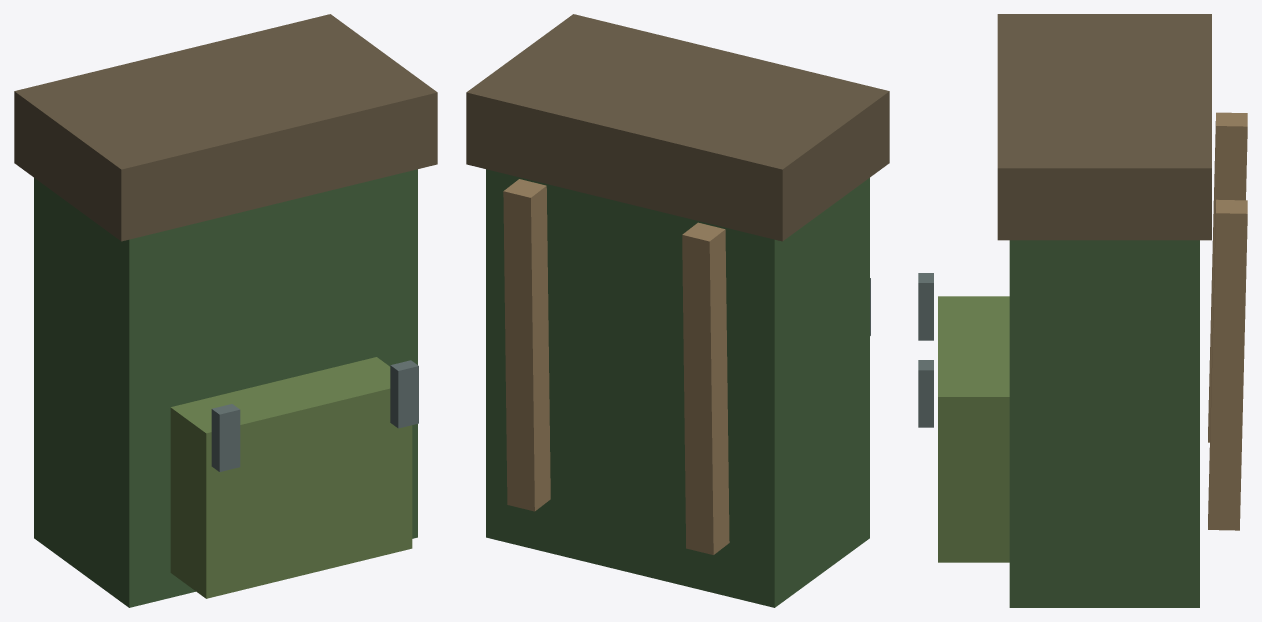
File: qc_backpack.obj
3 views of the same model, side by side, from view 1: azimuth 30°, elevation 25°; view 2: azimuth 150°, elevation 25°; view 3: azimuth 270°, elevation 25° (orthographic).
Parts seen in each view (by area): view 1: qc_backpack; view 2: qc_backpack; view 3: qc_backpack.
Part boxes in pixels (box(x1,y1,x2,y2)): qc_backpack: box(14, 14, 437, 607); qc_backpack: box(466, 14, 889, 607); qc_backpack: box(918, 14, 1247, 607).
Bounding box in the file's own units: 0.46 × 0.62 × 0.415.
